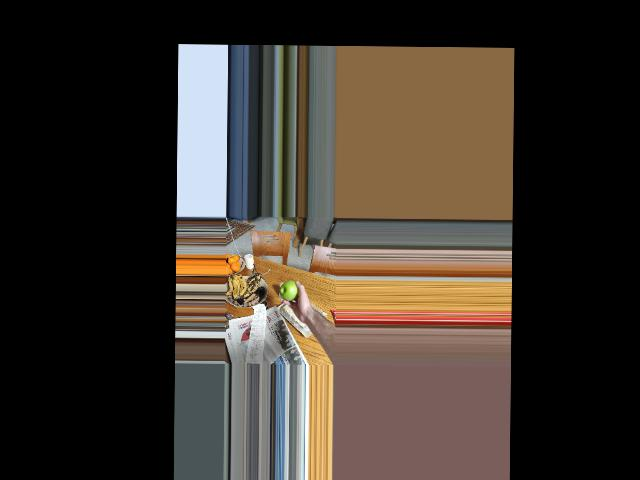apple: (281, 279, 302, 302)
